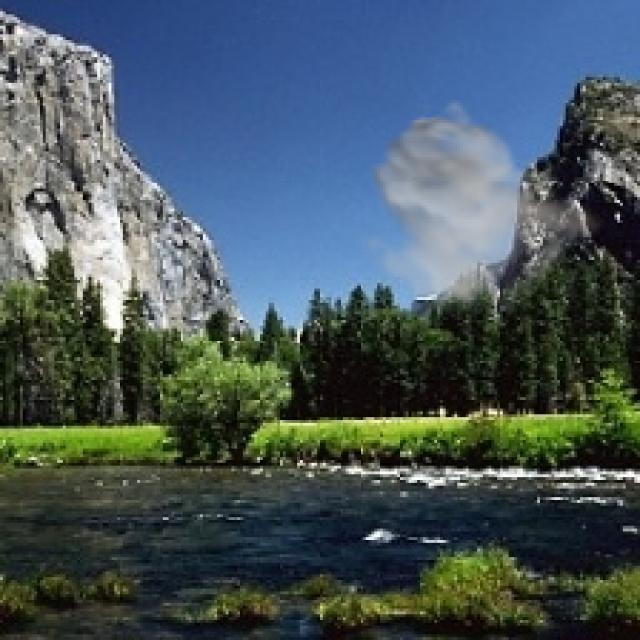Smoke: (348, 97, 608, 317)
